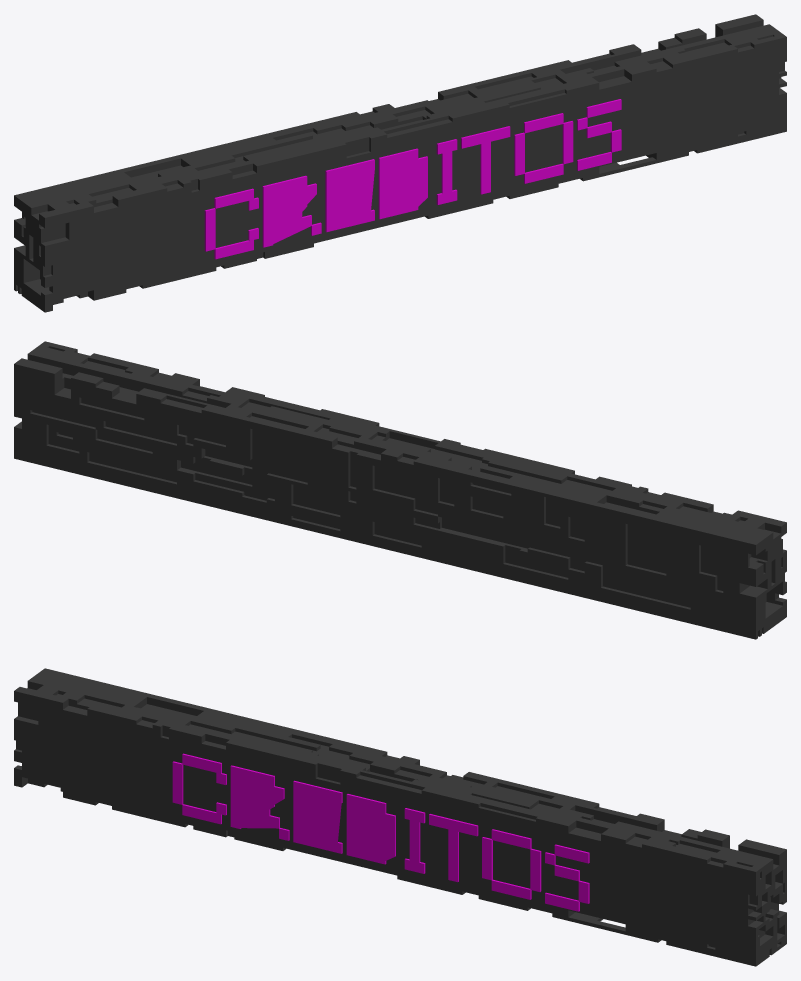
File: MenuCreditos.fbx
3 renders of one model, top to bottom at view 1: azimuth 30°, elevation 25°; view 2: azimuth 150°, elevation 25°; view 3: azimuth 330°, elevation 25°, orthographic.
Parts seen in each view (by area): view 1: polySurface1, typeMesh10; view 2: polySurface1; view 3: polySurface1, typeMesh10.
Boxes of the visible parts, bbox=[...] form: polySurface1: bbox=[14, 14, 786, 312]; typeMesh10: bbox=[204, 99, 621, 259]; polySurface1: bbox=[14, 341, 786, 639]; polySurface1: bbox=[14, 668, 786, 966]; typeMesh10: bbox=[172, 753, 589, 911].
Bounding box in the file's own units: 22.14 × 2.7 × 1.66.
